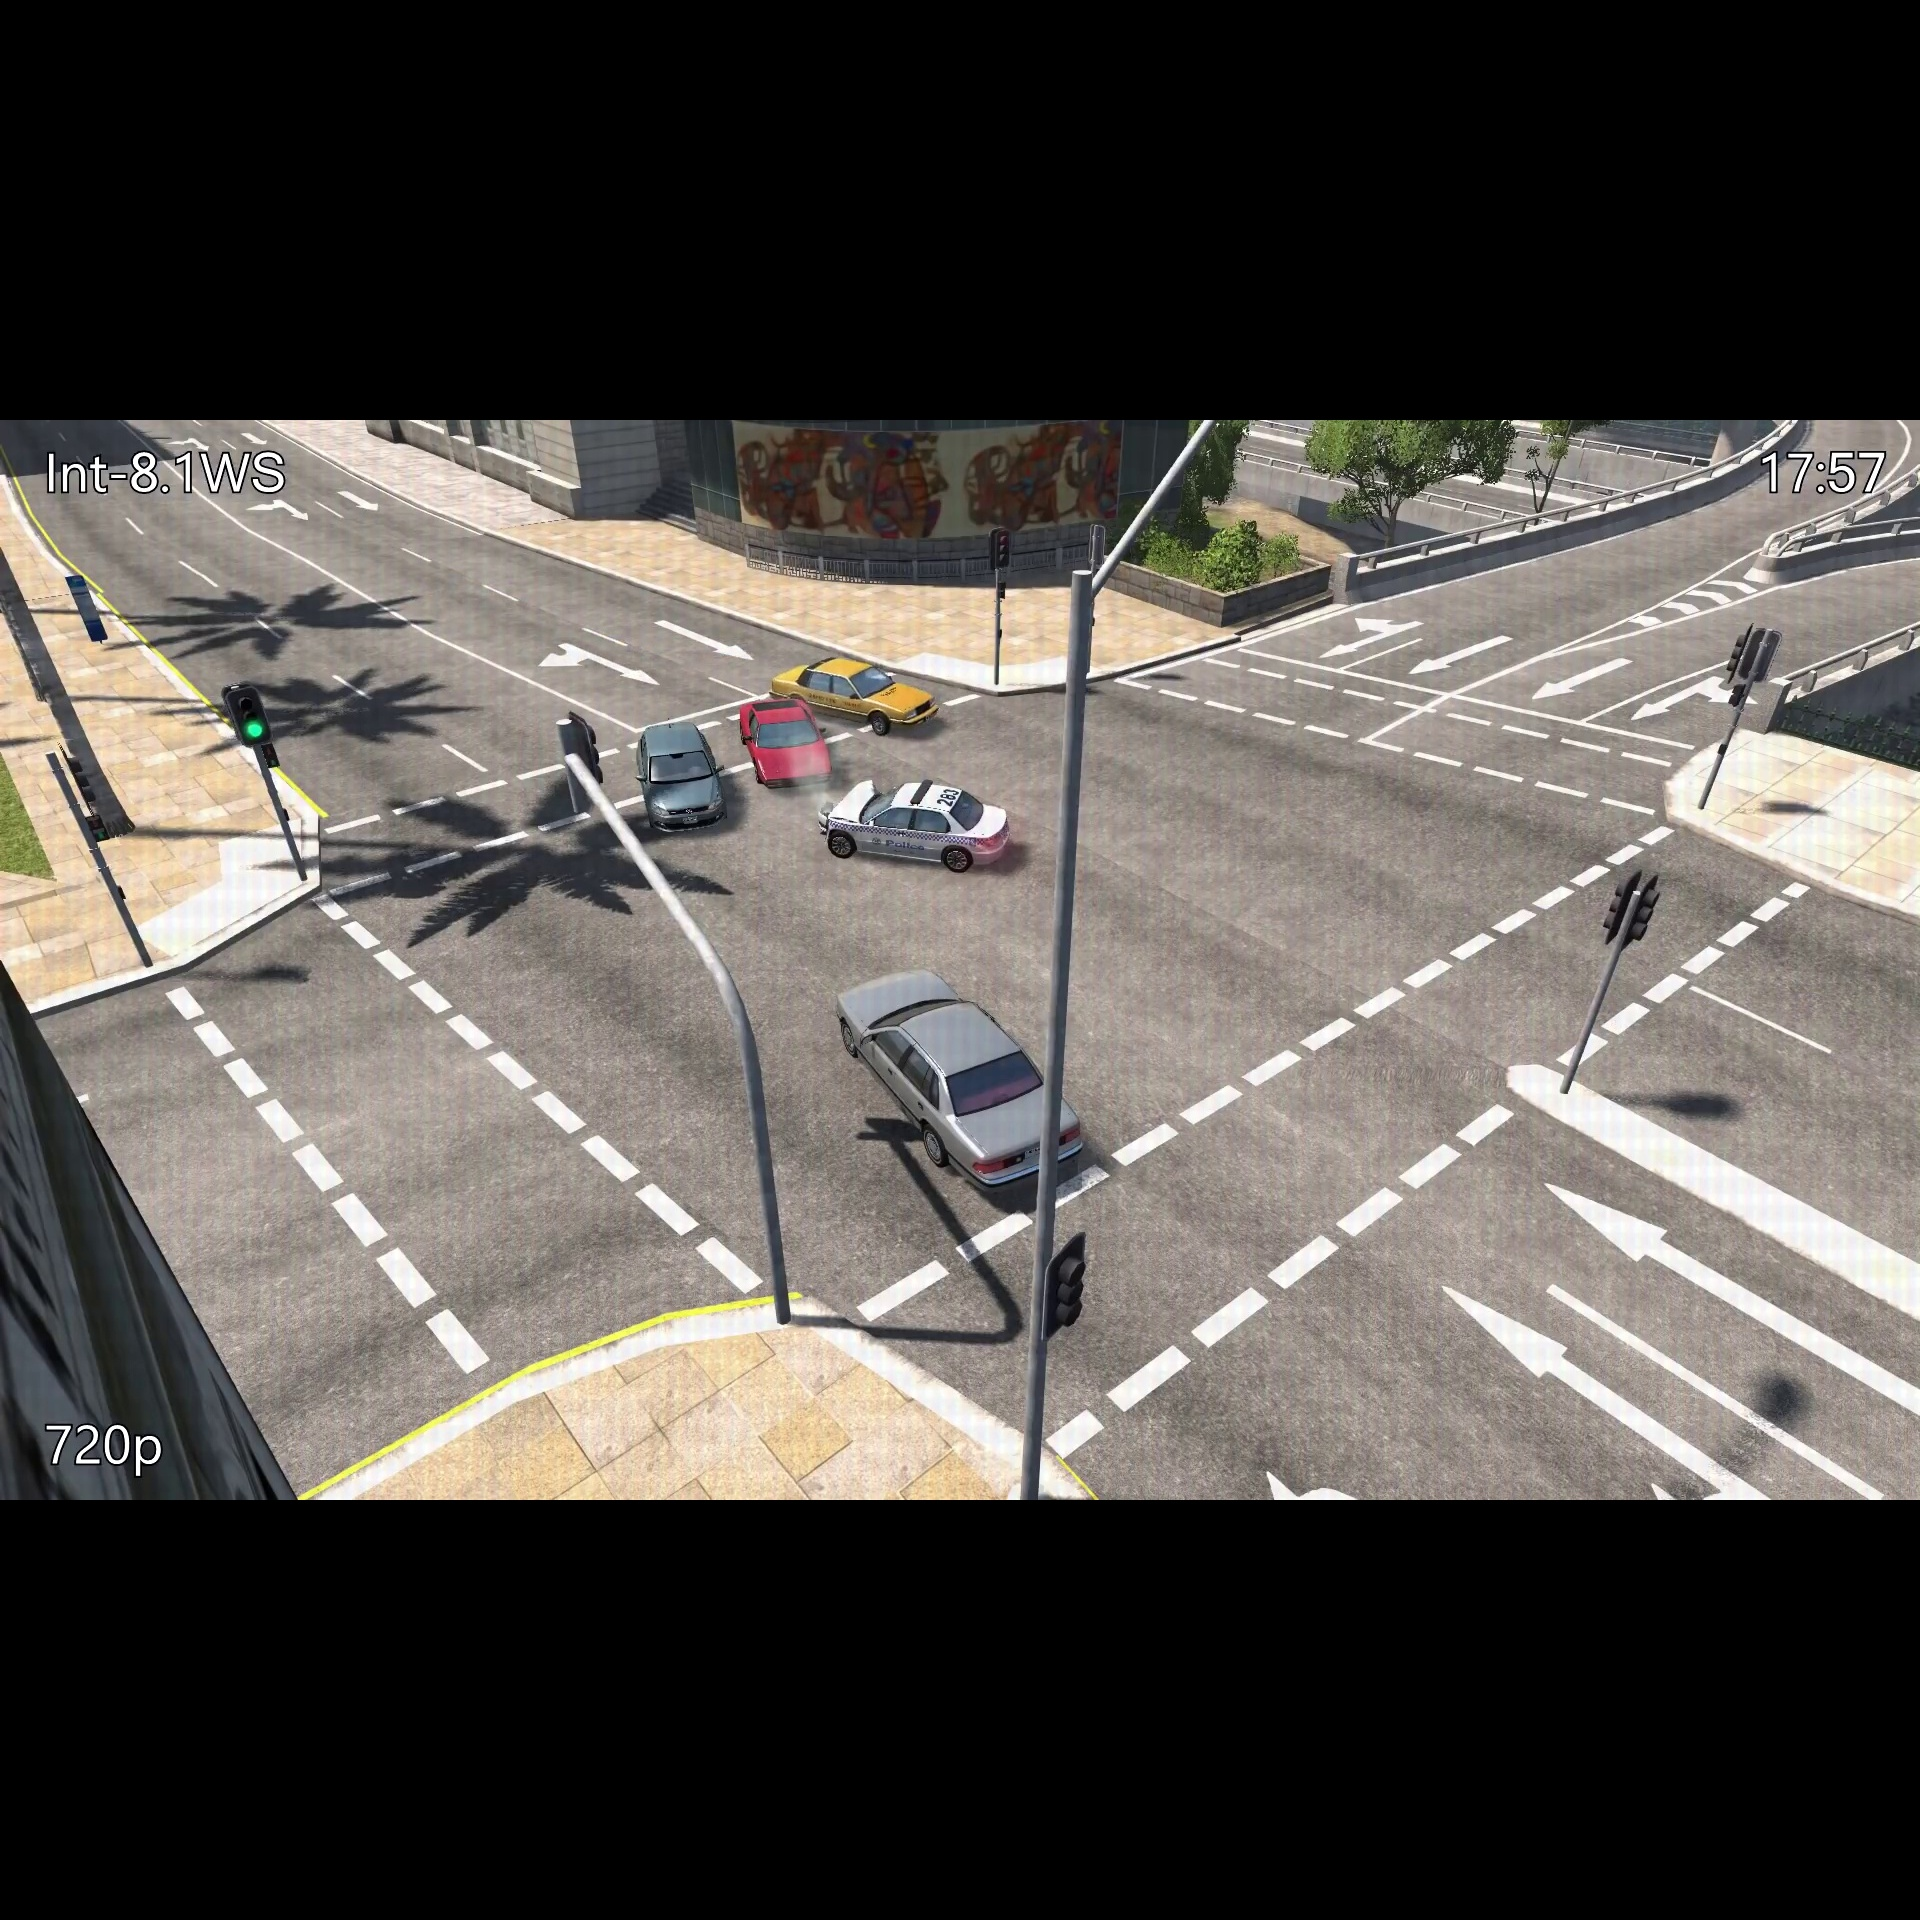vehicle: (828, 955, 1094, 1201), (805, 772, 1013, 883), (765, 651, 941, 735), (631, 717, 730, 846), (730, 695, 840, 795)
